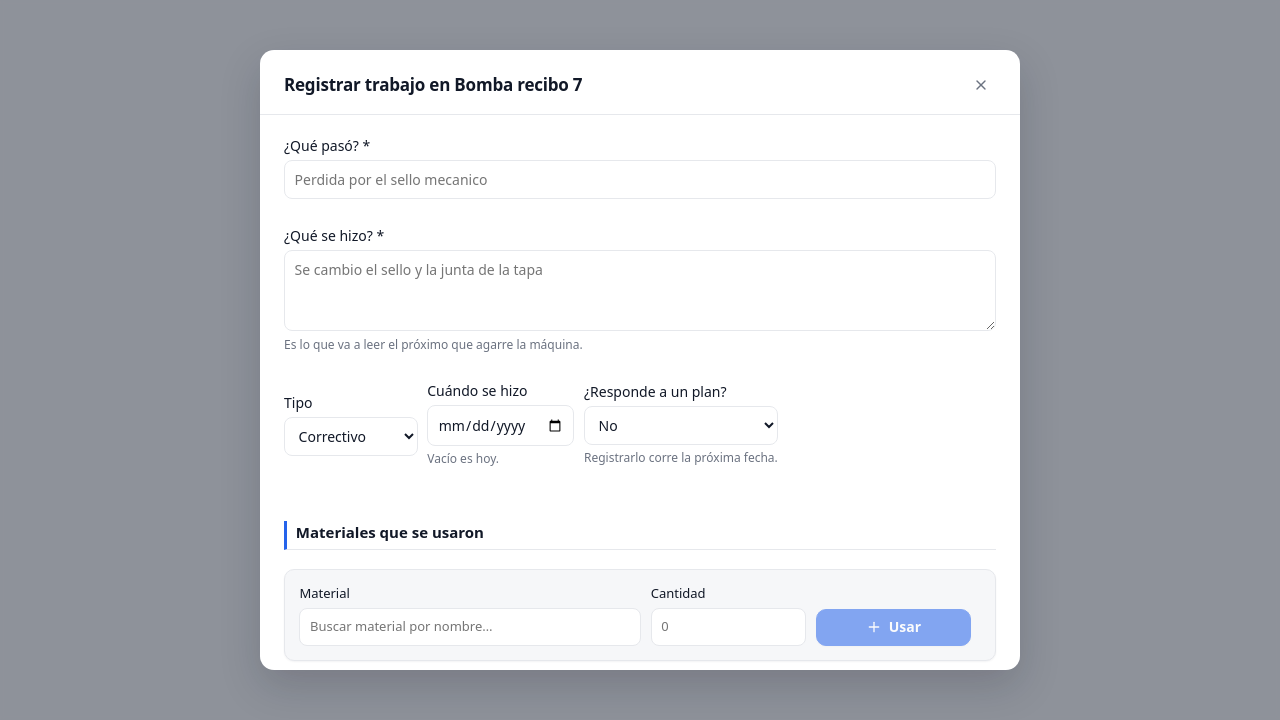
Test: registrar un trabajo desde la ficha de una maquina › REGRESION: un service externo exige decir que proveedor
The image size is (1280, 720).
Click the field labelled "¿Qué pasó? *". click: [640, 180]
box: top-left (284, 160), bottom-right (996, 199)
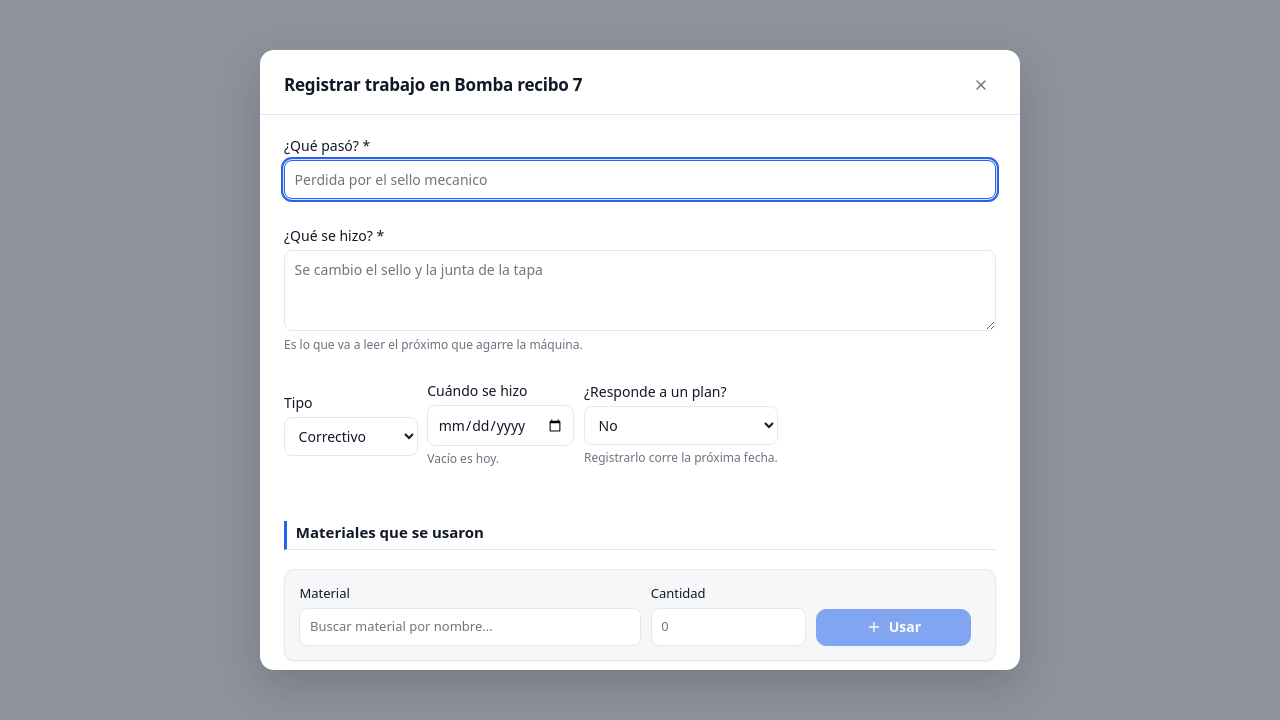
Type keys "Service de caldera"
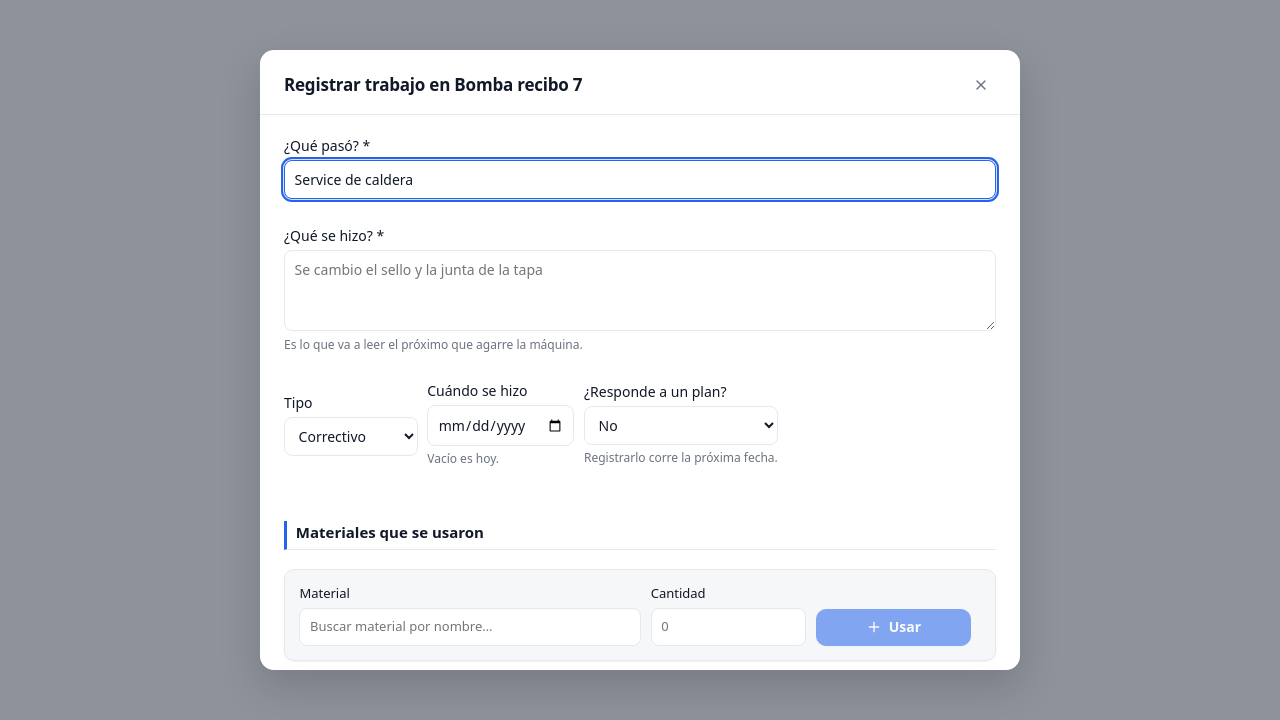
Click the text box labelled "Qué se hizo". click: [640, 291]
box: top-left (284, 250), bottom-right (996, 332)
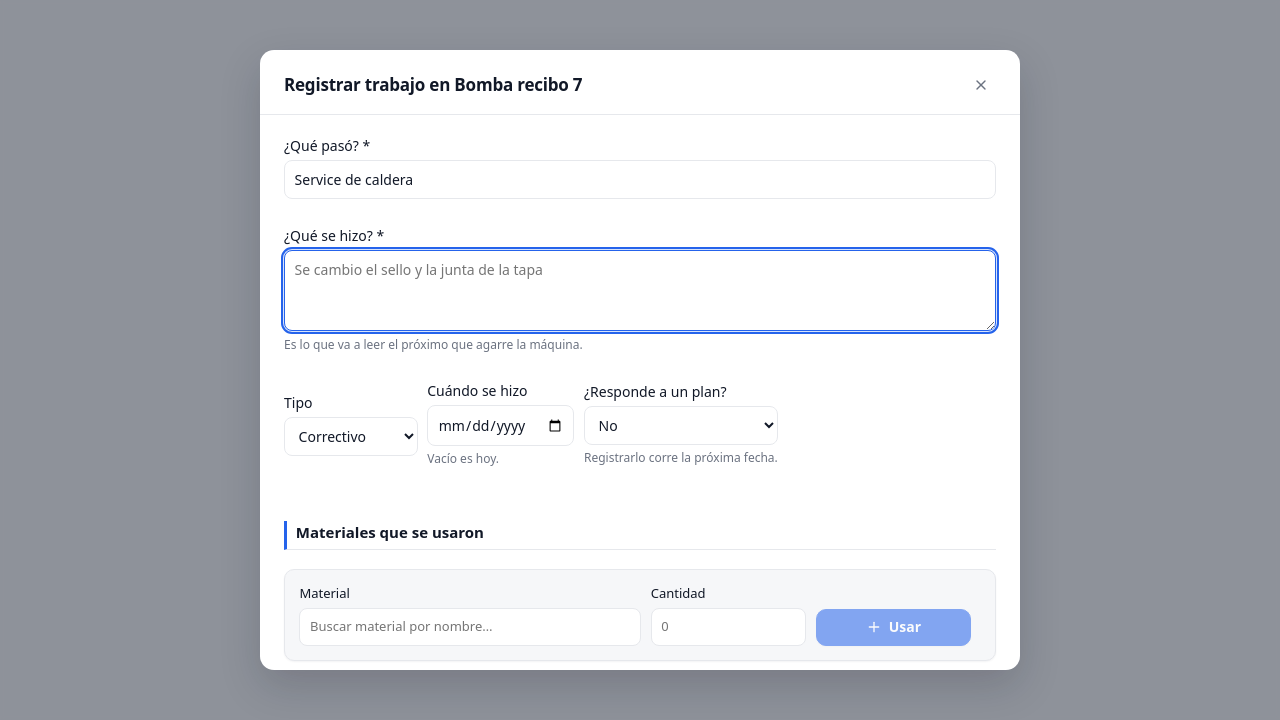
Type keys "Vino el service anual"
(page scrolled)
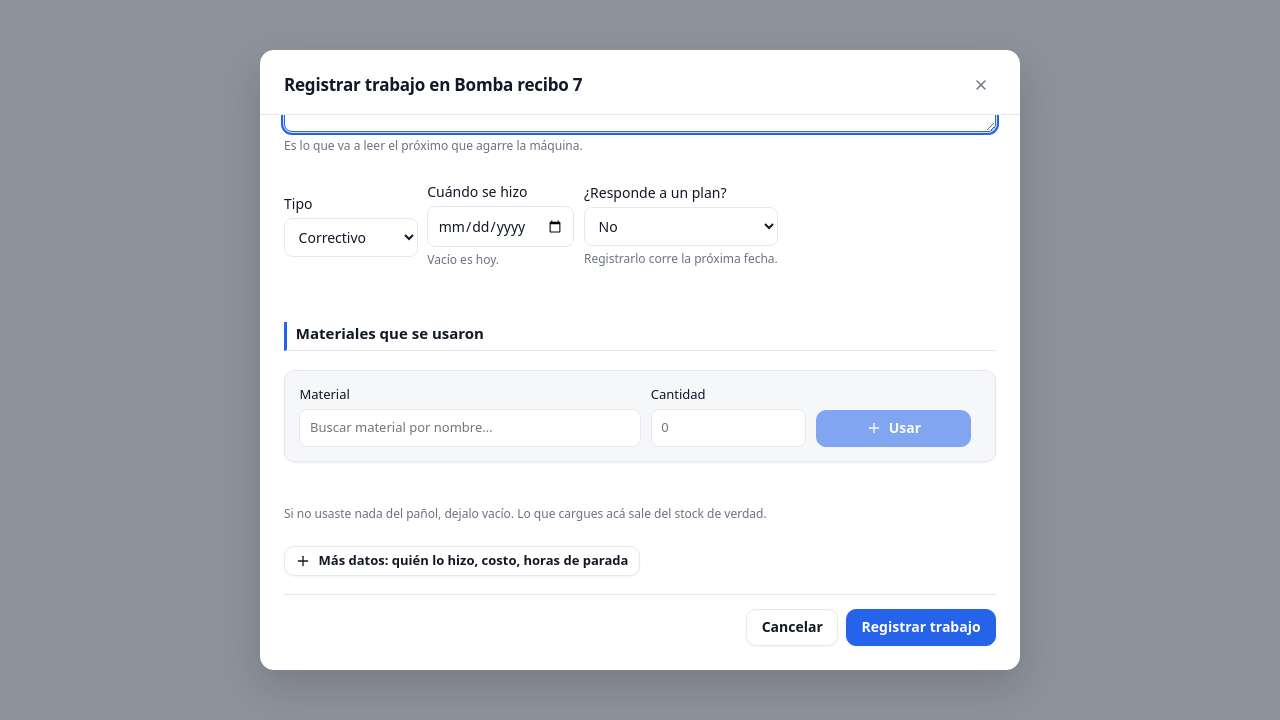
Click the button "Más datos: quién lo hizo, costo, horas de parada". click: [462, 561]
box: top-left (284, 546), bottom-right (640, 576)
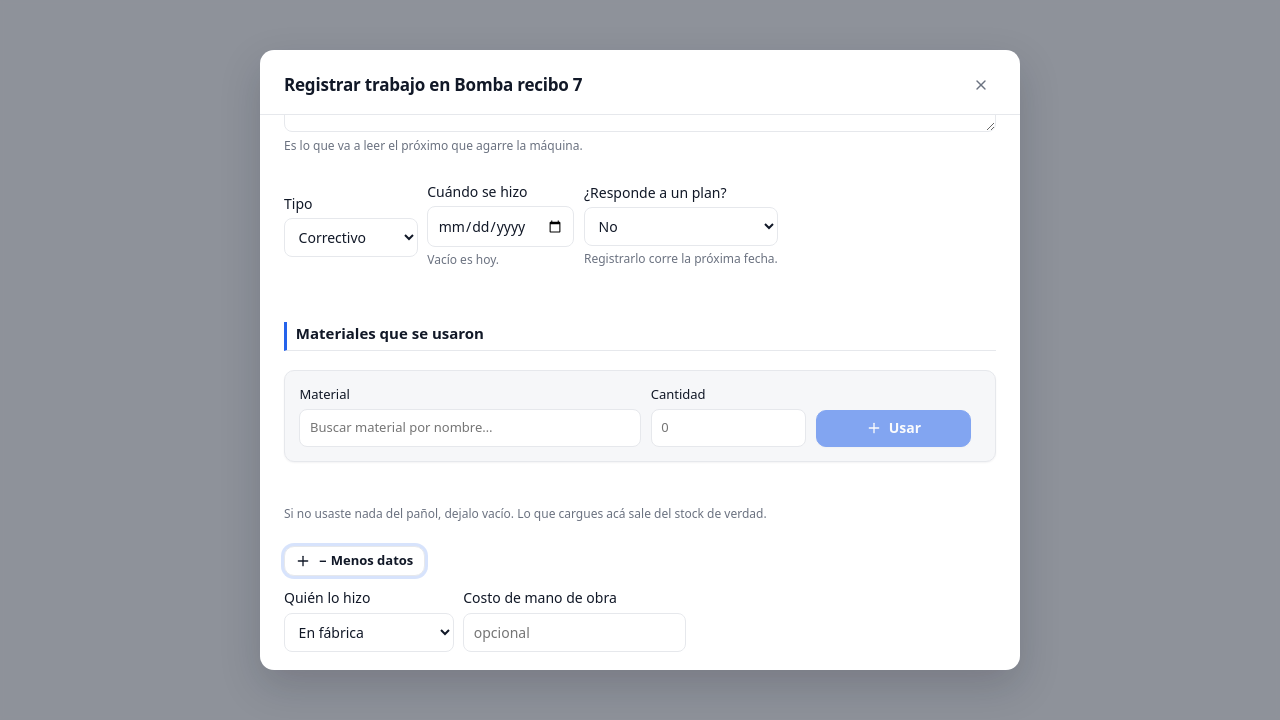
Select "Servicio externo" in the dropdown labelled "Quién lo hizo". click: [369, 632]
box: top-left (284, 613), bottom-right (454, 652)
(page scrolled)
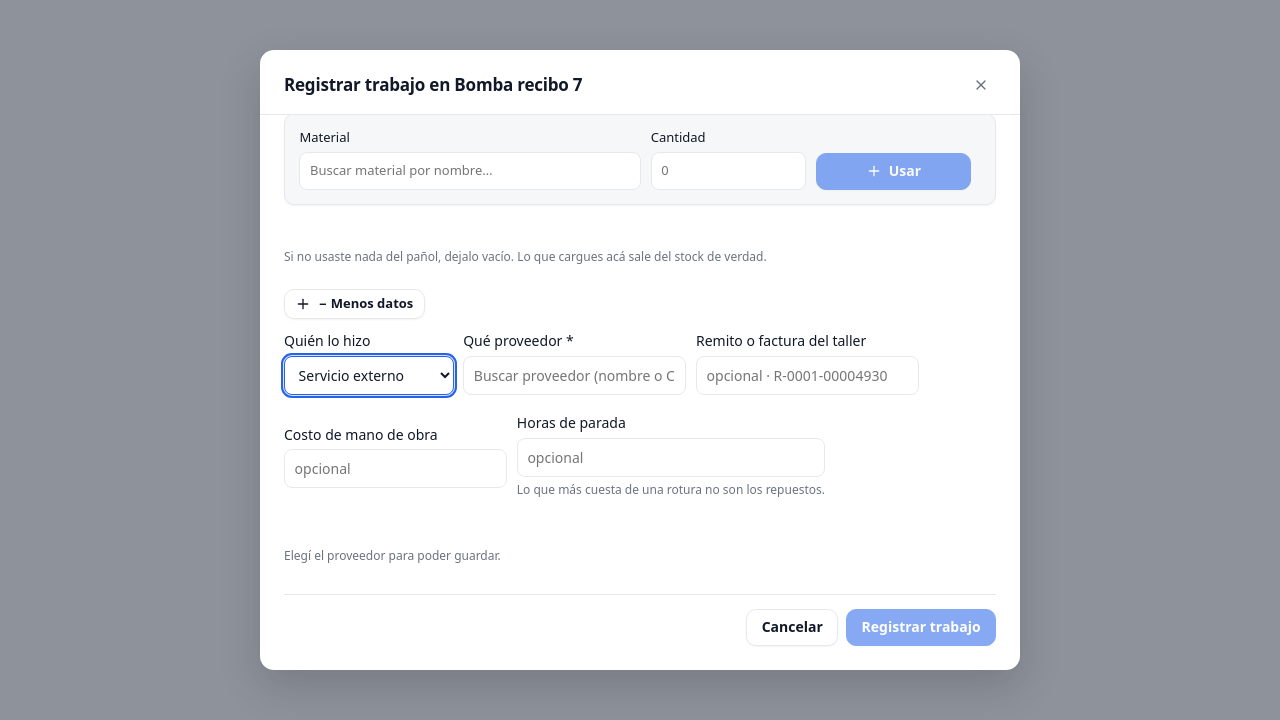
Now the button "Registrar trabajo" is disabled, box top-left (846, 610), bottom-right (996, 646)
